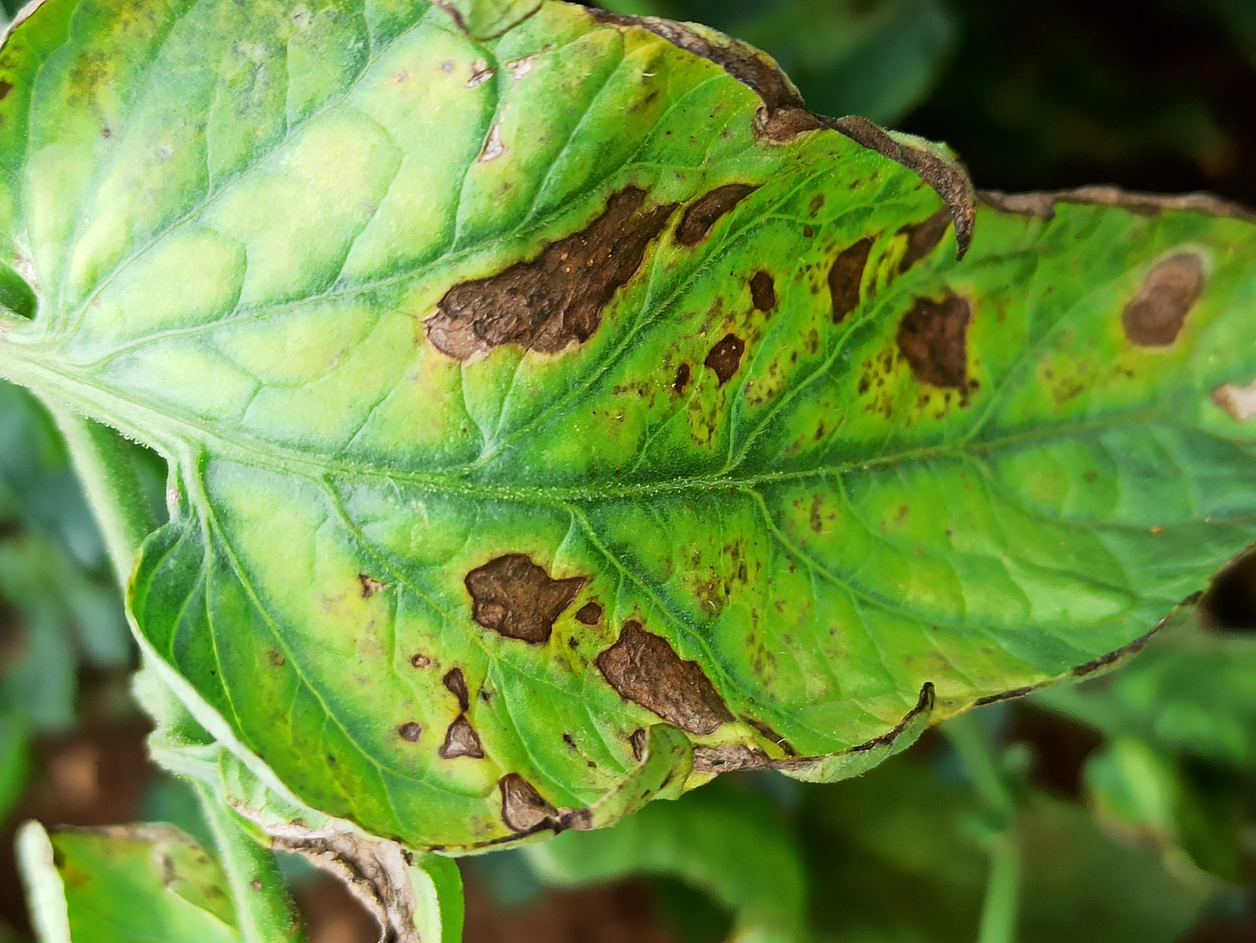Early Blight: (107, 0, 1256, 943)
